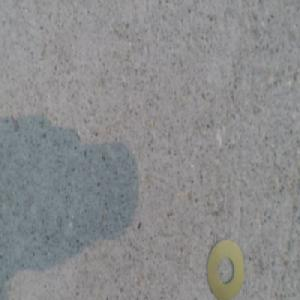Washer: (206, 236, 244, 298)
